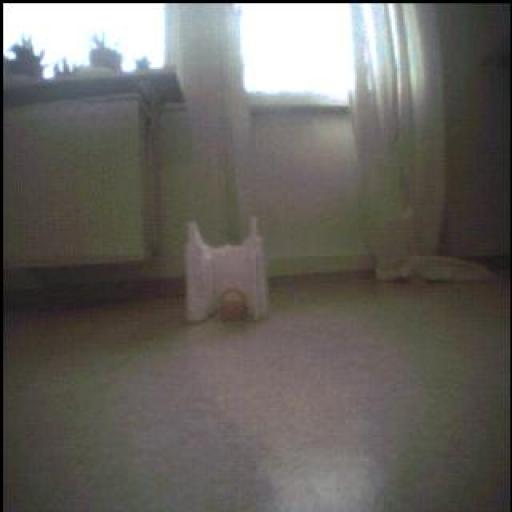Basket: (211, 286, 257, 326)
